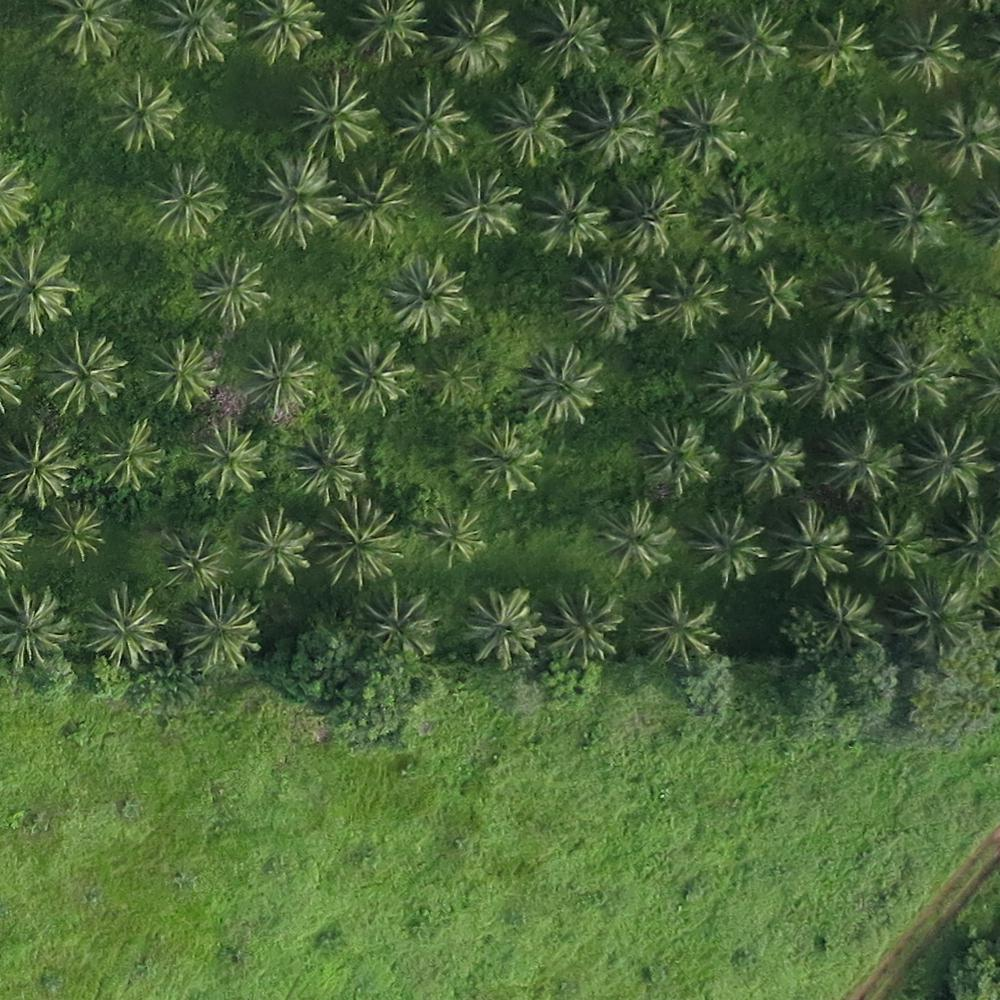Palm: (245, 150, 346, 242), (291, 71, 383, 155), (480, 83, 570, 165), (699, 346, 790, 426), (904, 421, 995, 501), (435, 163, 523, 244), (182, 418, 268, 500), (658, 86, 744, 167), (40, 334, 128, 413), (541, 588, 629, 667), (891, 580, 980, 658), (85, 584, 168, 667), (383, 82, 468, 163), (316, 507, 404, 585), (380, 258, 469, 335), (515, 348, 601, 427), (572, 84, 655, 165), (634, 583, 718, 663), (784, 339, 865, 421), (363, 578, 445, 659), (178, 590, 262, 669), (686, 506, 770, 584), (621, 6, 708, 81), (822, 424, 902, 505), (570, 254, 649, 336), (639, 413, 718, 495), (699, 177, 778, 258), (772, 502, 853, 581), (529, 2, 612, 79), (529, 174, 612, 251), (650, 260, 729, 340), (465, 584, 544, 664), (1, 244, 75, 329), (870, 342, 951, 419), (4, 424, 79, 507), (712, 5, 790, 84), (612, 175, 689, 254), (435, 1, 517, 75), (880, 15, 963, 88), (2, 585, 74, 669), (340, 165, 416, 243), (290, 426, 368, 502), (237, 510, 315, 586), (150, 162, 227, 238), (464, 423, 540, 500), (873, 176, 951, 251), (337, 340, 414, 415), (99, 77, 178, 150), (929, 99, 1000, 180), (191, 255, 269, 328), (796, 8, 873, 81), (141, 338, 220, 409), (815, 258, 894, 329), (92, 417, 167, 491), (600, 501, 674, 576), (242, 336, 315, 412), (857, 507, 931, 581), (152, 1, 236, 66), (841, 101, 919, 168), (732, 428, 806, 498), (810, 584, 884, 654), (737, 260, 806, 331), (417, 506, 489, 574), (153, 527, 224, 592), (45, 499, 107, 565)
